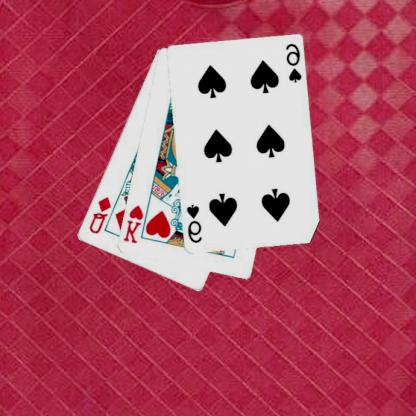6S: (185, 201, 205, 245), (284, 41, 304, 84)
KH: (122, 203, 146, 245)
QD: (87, 194, 114, 235)
